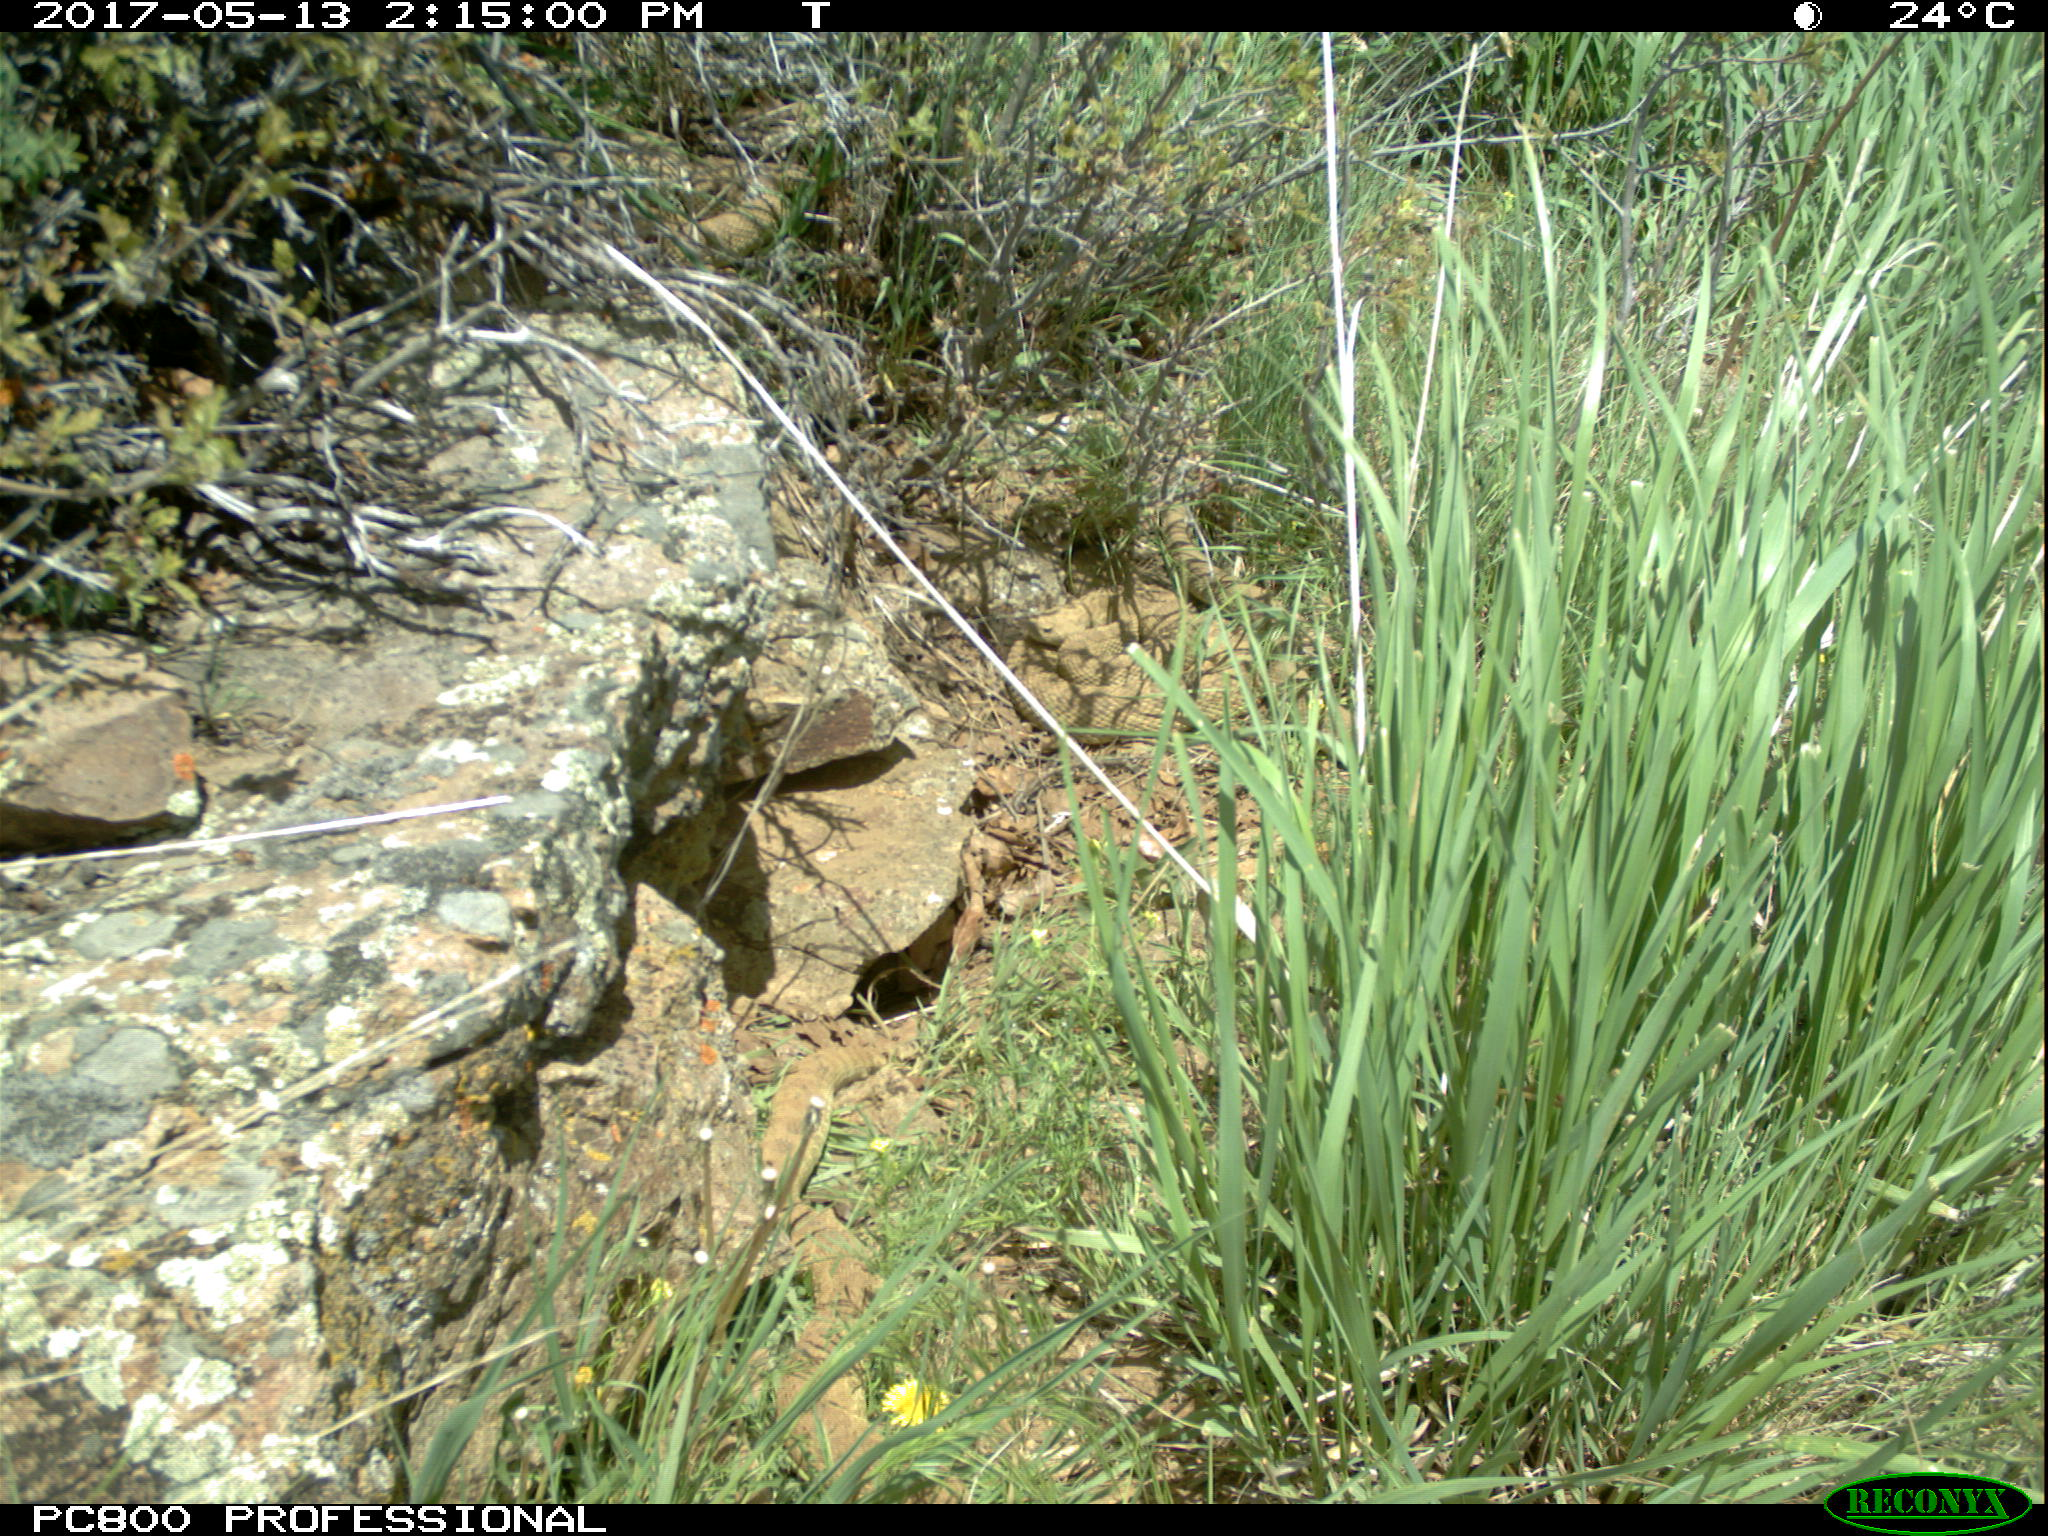snake: (764, 1020, 964, 1499), (998, 578, 1263, 745), (651, 152, 813, 258), (1161, 497, 1261, 611)
